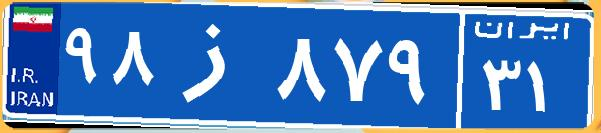1: (525, 38, 570, 115)
3: (475, 38, 525, 113)
7: (330, 28, 385, 110)
8: (273, 28, 330, 110), (110, 28, 158, 105)
9: (385, 28, 445, 110), (57, 26, 110, 107)
ز: (158, 15, 273, 115)
